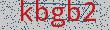2: (81, 1, 99, 29)
b: (65, 1, 82, 27), (33, 1, 49, 28)
g: (49, 3, 66, 29)
k: (15, 1, 35, 28)
